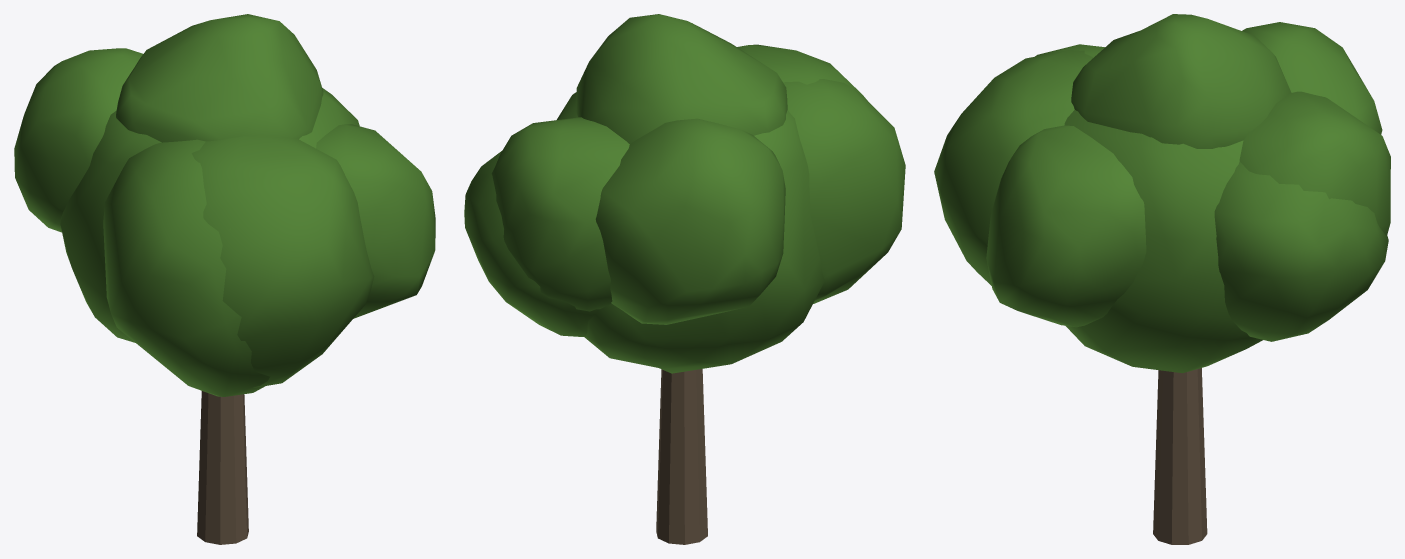
File: oak2.glb
3 views of the same model, side by side, from view 1: azimuth 30°, elevation 25°; view 2: azimuth 150°, elevation 25°; view 3: azimuth 270°, elevation 25° (orthographic). The views are drawn at different scales.
Visible parts, largest first — view 1: canopy, trunk; view 2: canopy, trunk; view 3: canopy, trunk.
Part boxes in pixels (<box>): canopy: <box>14,14,435,396</box>; trunk: <box>197,391,248,544</box>; canopy: <box>464,14,905,373</box>; trunk: <box>656,369,707,544</box>; canopy: <box>934,14,1390,373</box>; trunk: <box>1153,368,1207,544</box>.
Size of the model in its own units: 5.83 by 9.04 by 7.15.
